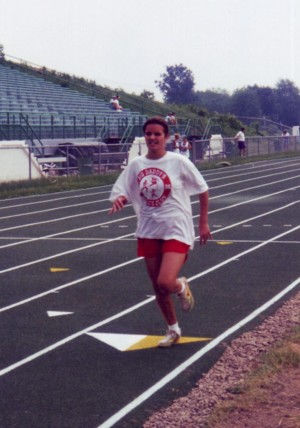person: (112, 119, 212, 350)
